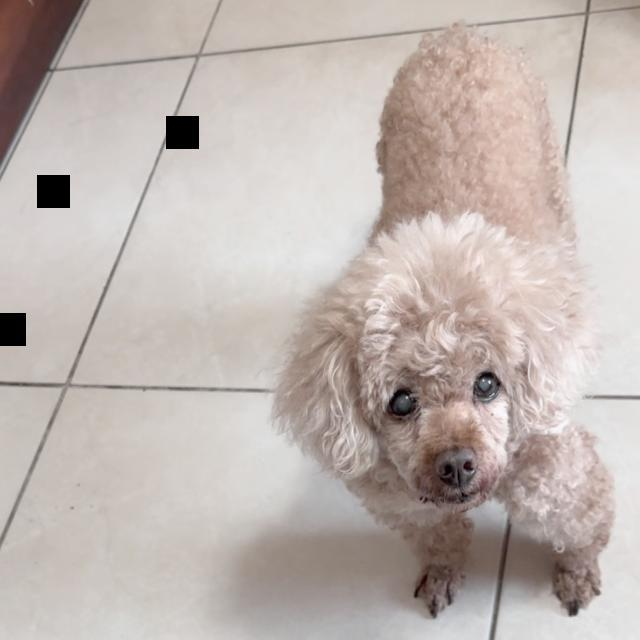adult_dog: (272, 19, 617, 617)
